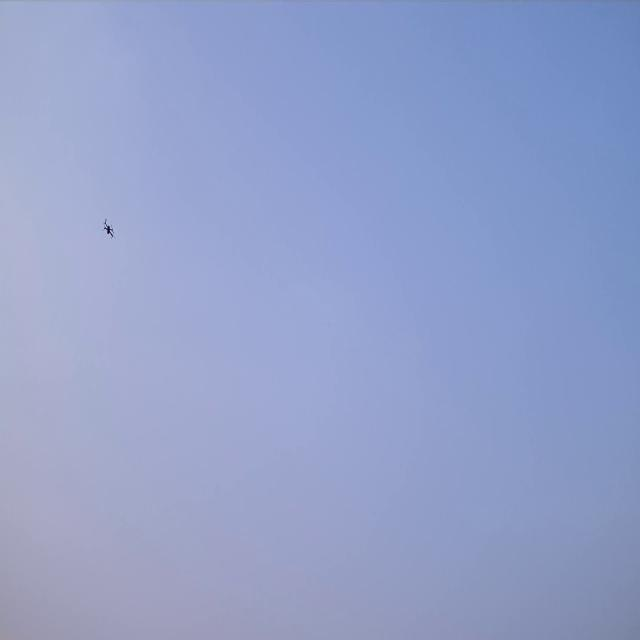UAV: (103, 216, 117, 242)
